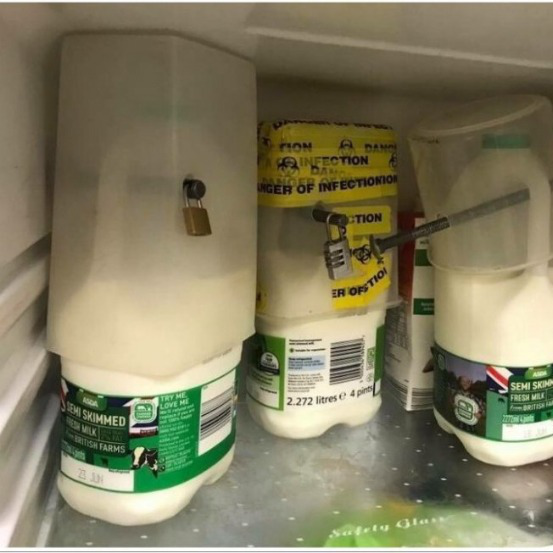milk: (45, 32, 256, 527), (244, 121, 390, 438), (427, 132, 553, 467)
